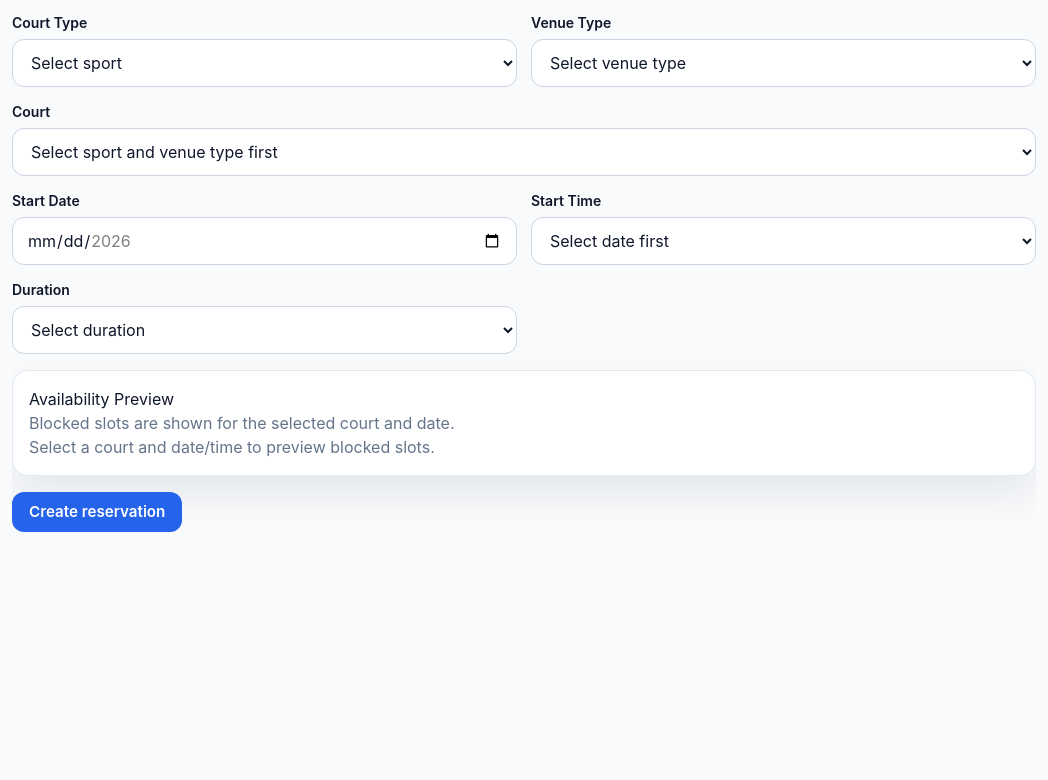
Test case: ReservationForm › renders blocked slots and prevents conflicting submit
The image size is (1048, 780).
Select "BADMINTON" in the dropdown labelled "Court Type". click: point(264, 63)
box: [12,39,517,87]
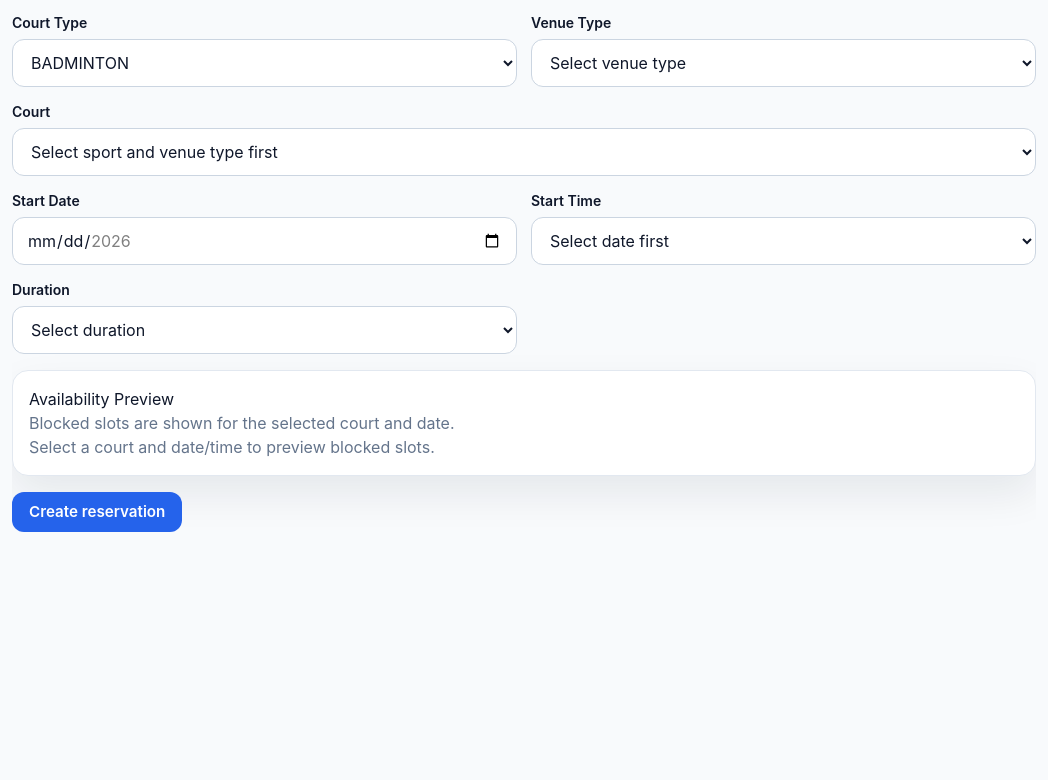
Select "INDOOR" in the dropdown labelled "Venue Type". click: point(784, 63)
box: [531,39,1036,87]
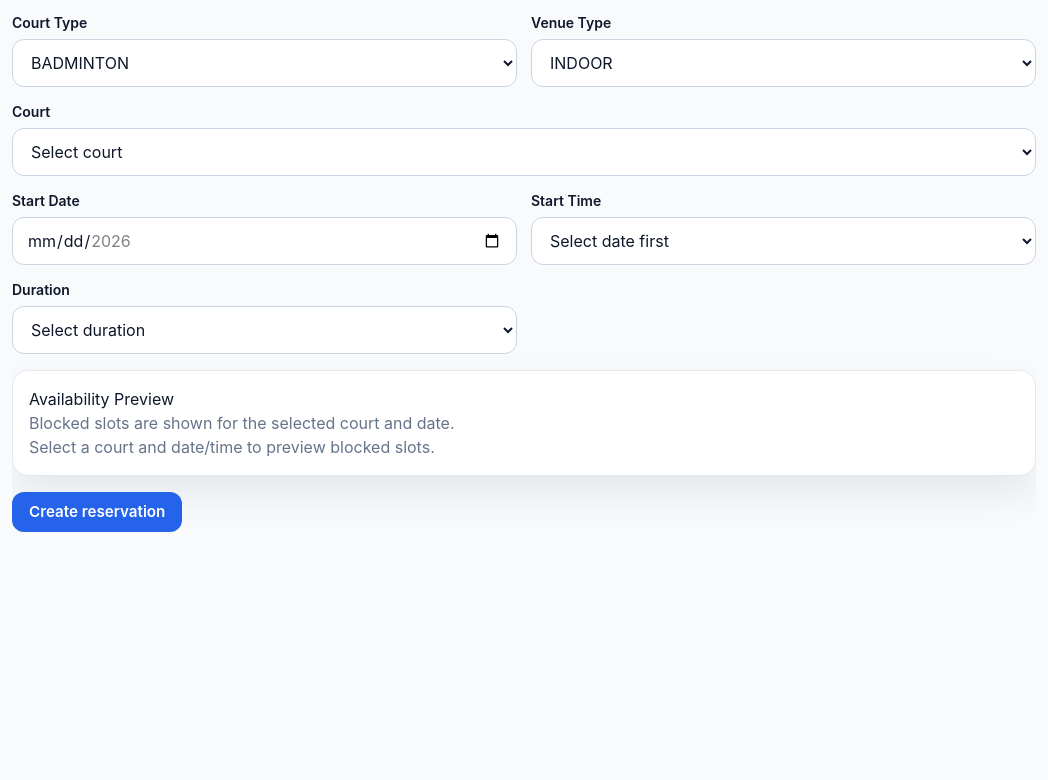
Select "Center Court | Makati | AVAILABLE" in the dropdown labelled "Court". click: point(524, 152)
box: [12,128,1036,176]
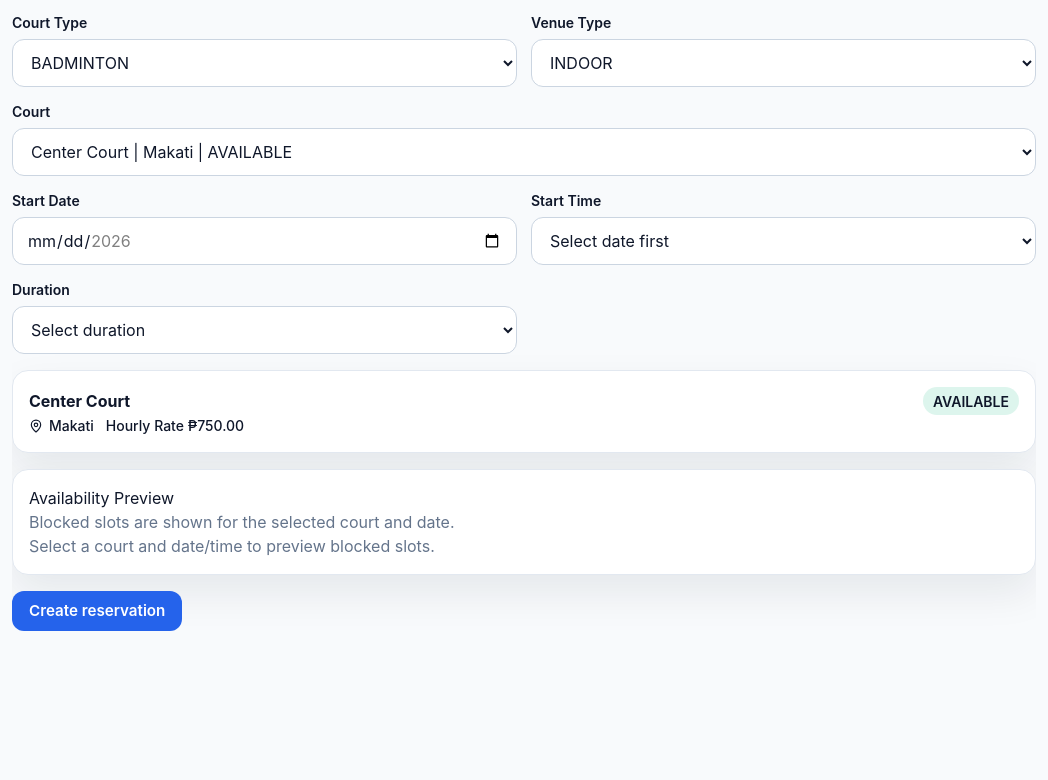
Type "2026-06-01" into the date field labelled "Start Date". click: point(264, 241)
box: [12,217,517,265]
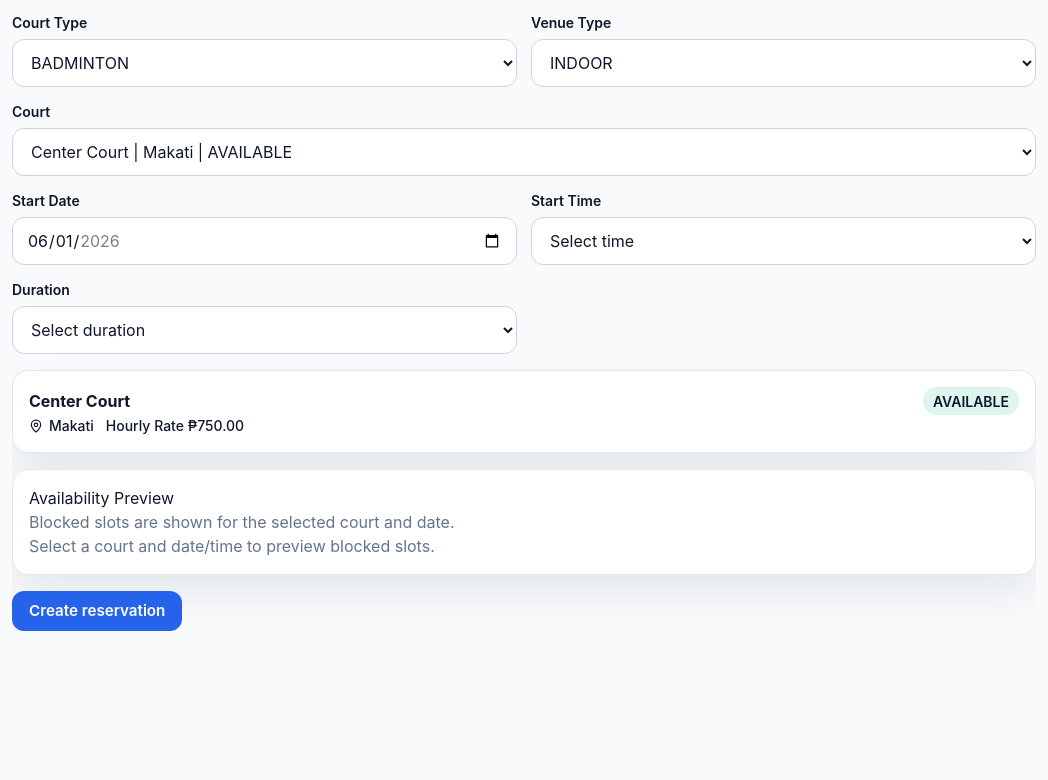
Select "10:30 AM" in the dropdown labelled "Start Time". click: point(784, 241)
box: [531,217,1036,265]
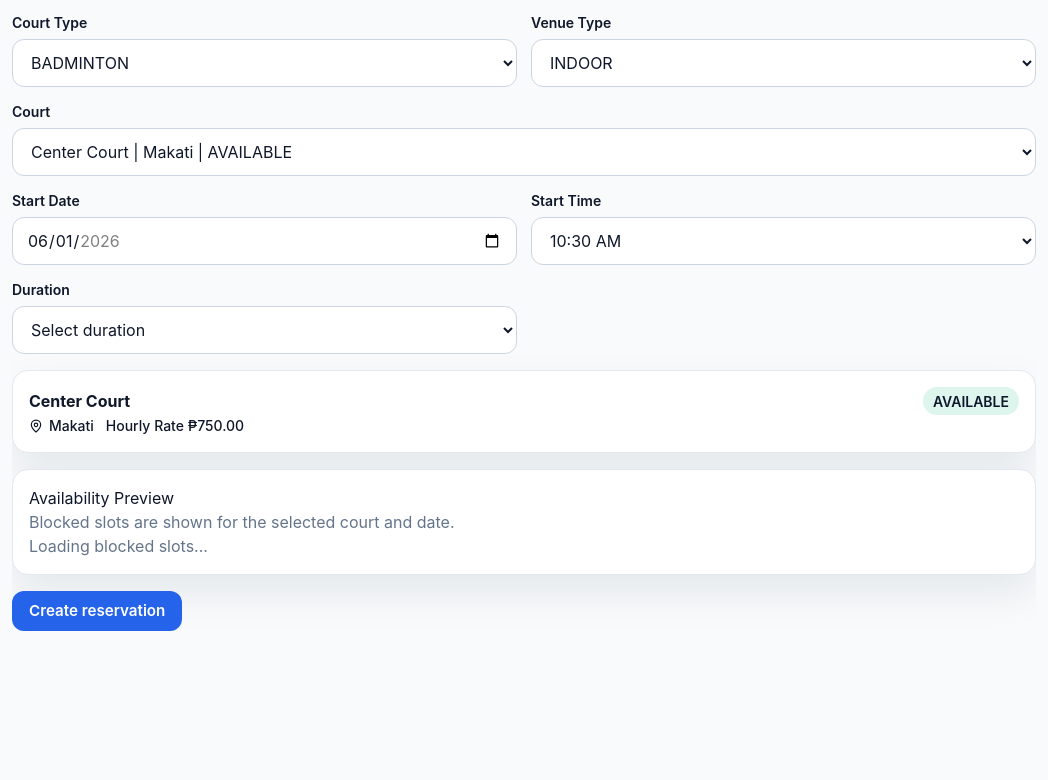
Select "60 minutes" in the dropdown labelled "Duration". click: point(264, 330)
box: [12,306,517,354]
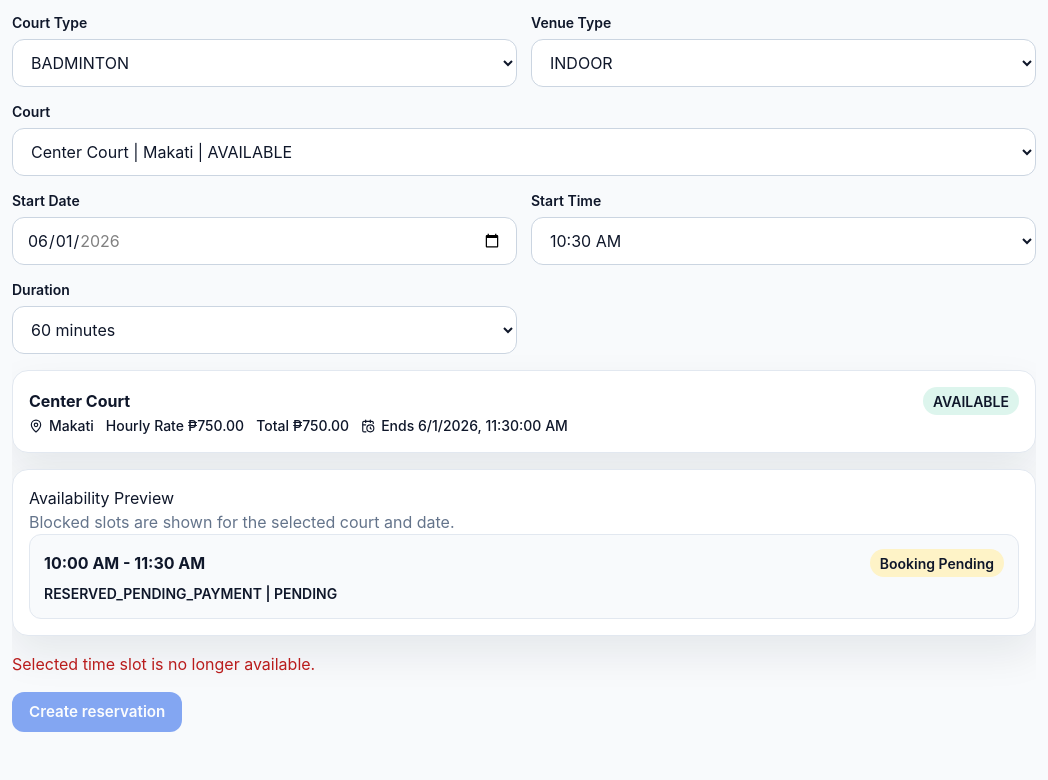
Expected: the text "Booking Pending" is shown, [870,549,1004,577]
Expected: the button "Create reservation" is disabled, [12,692,182,732]
